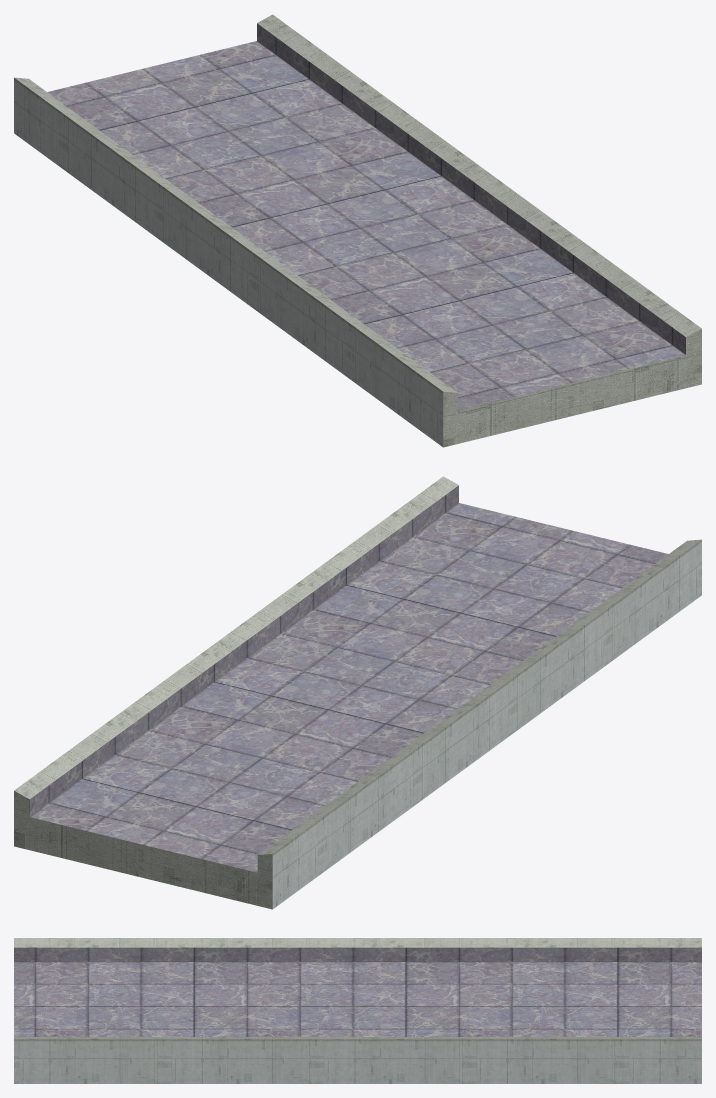
File: bes2_bldg_midi_skyway.glb
3 views of the same model, one above another, from view 1: azimuth 30°, elevation 25°; view 2: azimuth 150°, elevation 25°; view 3: azimuth 270°, elevation 25° (orthographic). The views are drawn at different scales.
Parts seen in each view (by area): view 1: mesh_part1, mesh_part2; view 2: mesh_part1, mesh_part2; view 3: mesh_part1, mesh_part2.
Boxes of the visible parts, x1,y1,x2,y2 form: mesh_part1: (47, 23, 685, 410); mesh_part2: (14, 14, 701, 447); mesh_part1: (30, 485, 668, 872); mesh_part2: (14, 476, 701, 909); mesh_part1: (14, 947, 701, 1036); mesh_part2: (14, 938, 701, 1083).
Size of the model in its own units: 8 by 1.65 by 22.99.
Materials: 2 (2 with a texture image).
